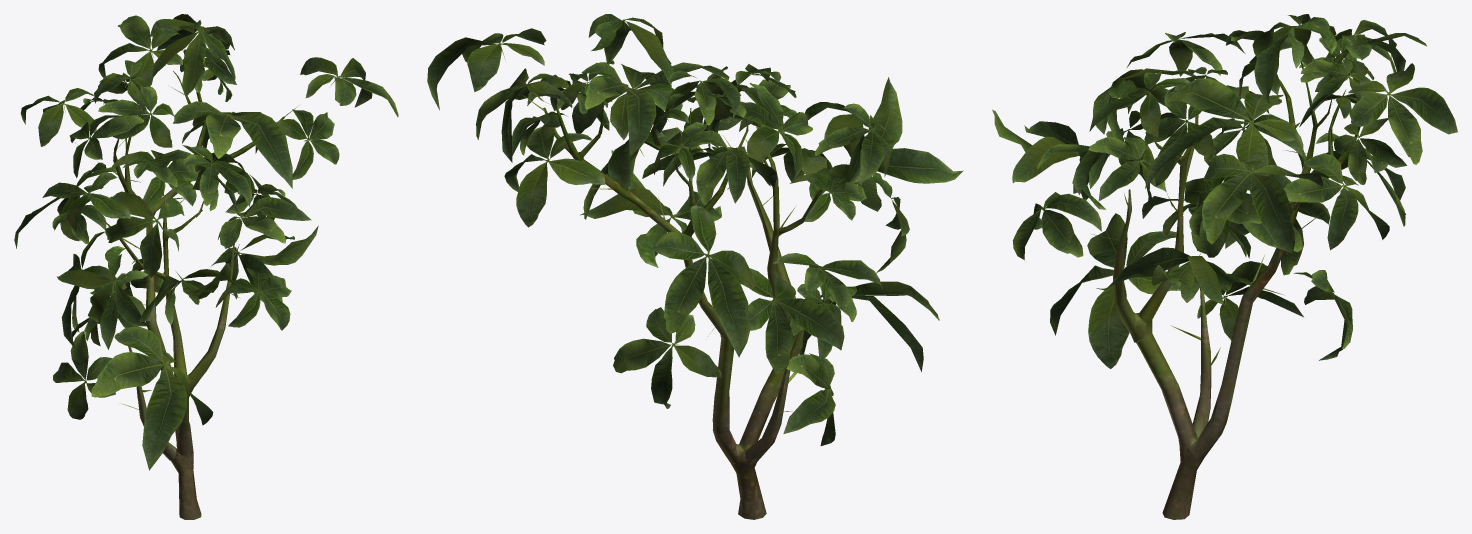
The model's file is pachira_aquatica_01_c.gltf.lod.glb.
3 renders of one model, left to right at view 1: azimuth 30°, elevation 25°; view 2: azimuth 150°, elevation 25°; view 3: azimuth 270°, elevation 25°, orthographic. The views are drawn at different scales.
Visible parts, largest first — view 1: pachira_aquatica_01_leaves_c, pachira_aquatica_01_bark_c; view 2: pachira_aquatica_01_leaves_c, pachira_aquatica_01_bark_c; view 3: pachira_aquatica_01_leaves_c, pachira_aquatica_01_bark_c.
Boxes of the visible parts, box(x1,y1,x2,y2) form: pachira_aquatica_01_leaves_c: box(14, 14, 398, 470); pachira_aquatica_01_bark_c: box(101, 71, 284, 519); pachira_aquatica_01_leaves_c: box(427, 14, 963, 445); pachira_aquatica_01_bark_c: box(543, 105, 839, 519); pachira_aquatica_01_leaves_c: box(992, 14, 1457, 368); pachira_aquatica_01_bark_c: box(1113, 61, 1360, 519).
Size of the model in its own units: 0.9752 by 1.15 by 0.9256.
Materials: 2 (2 with a texture image).
